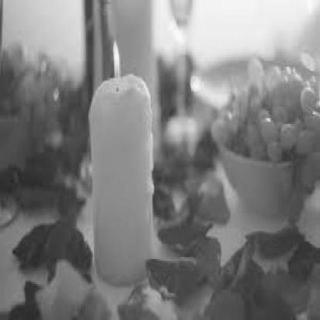Fire: (111, 30, 125, 92)
